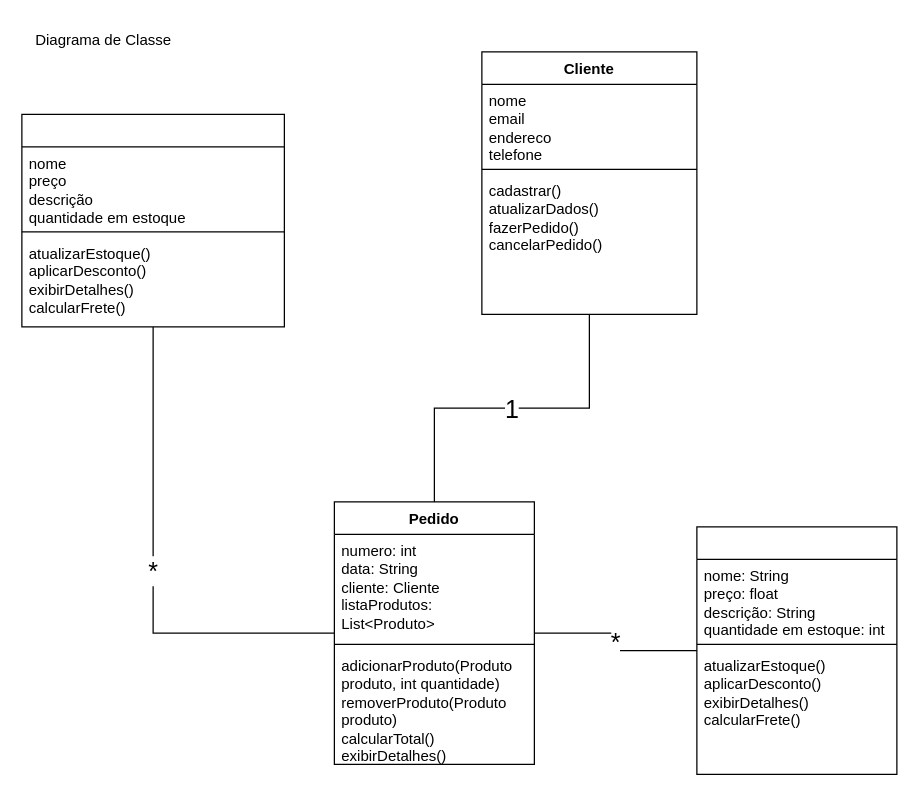
Image size: 919x799. Some labels were removed from this diagram. The shapes that lost their labels are listed below. From the top down, each one's box as (x1, y1, x2, y2) in pixels, then its label:
(21, 113, 284, 327): Produto
(696, 526, 897, 774): Pagamento
